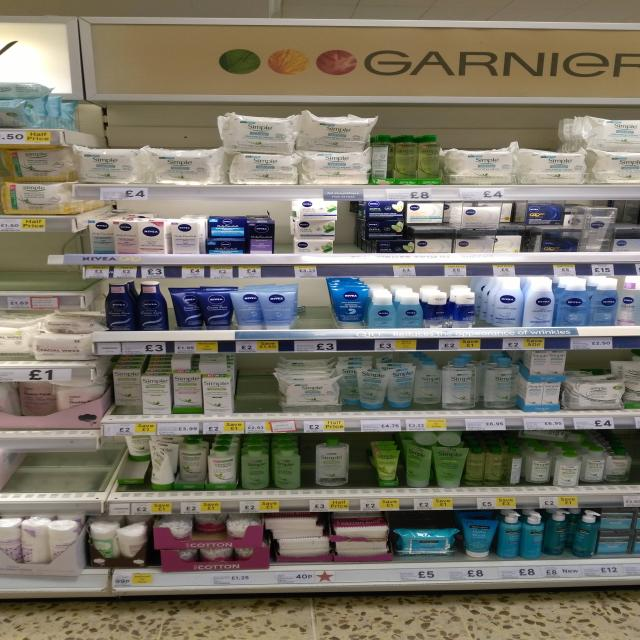void: (5, 452, 100, 494), (1, 234, 46, 291), (238, 356, 276, 412), (302, 282, 330, 327)
